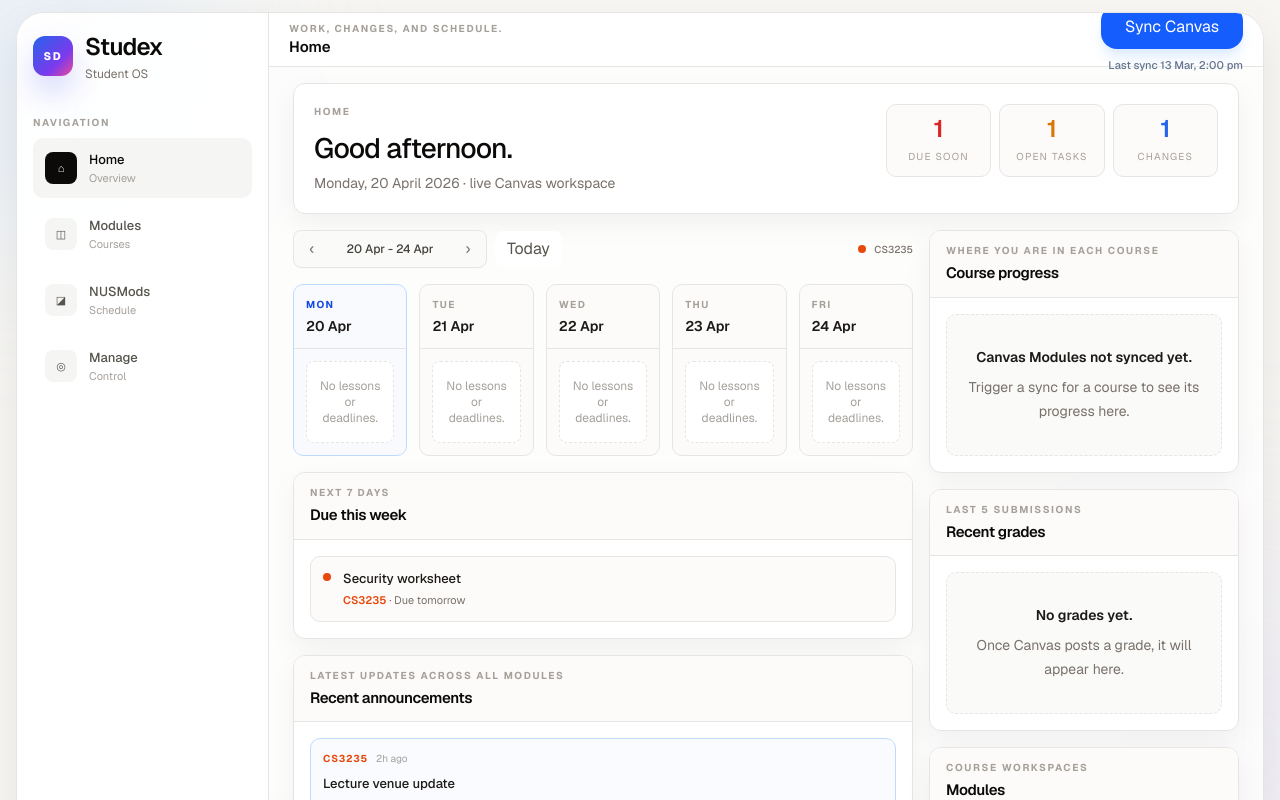
it: DashboardClient › switches root views from the redesigned navigation shell
What coordinates should you click on to do the following:
click the button "◫ Modules Courses"
I would click on:
 (142, 234)
Its box is [33, 204, 252, 264].
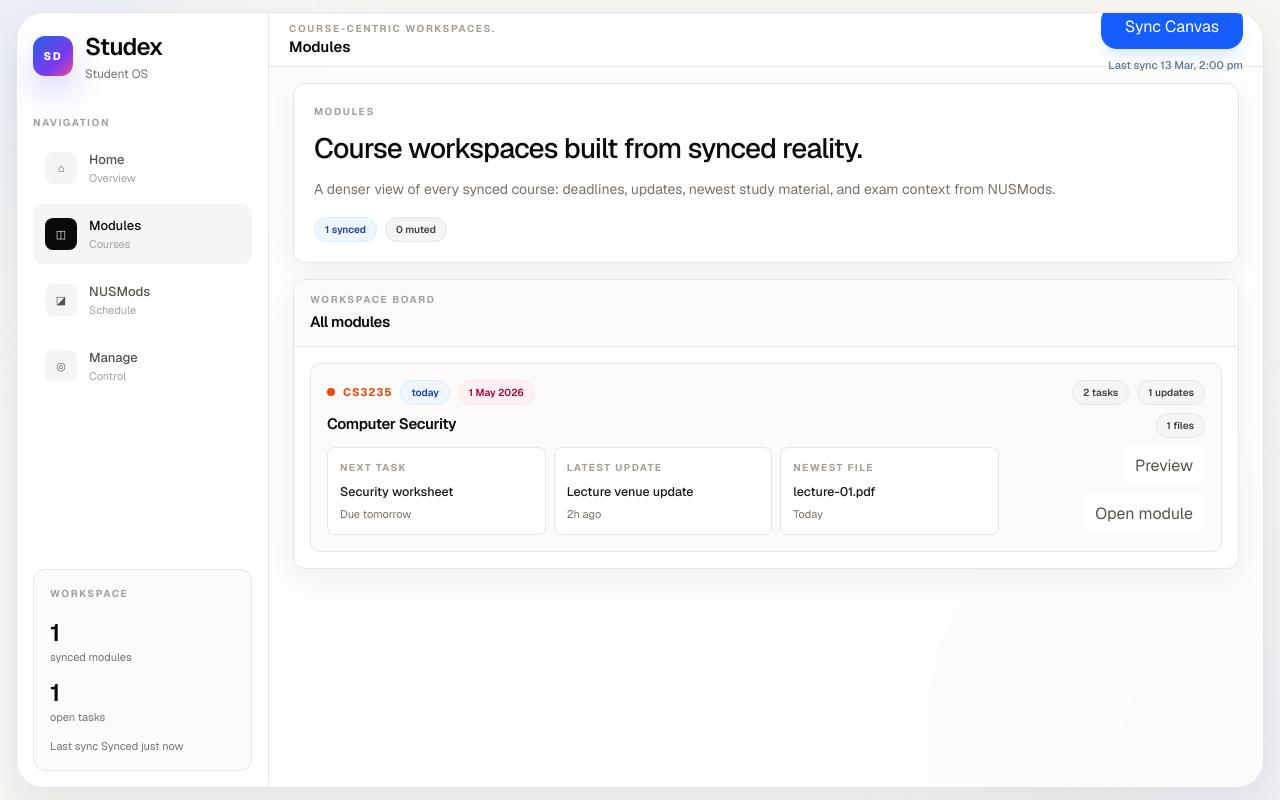
Expected: the text "Security worksheet" is shown, [340, 483, 454, 500]
Now the heading "Course workspaces built from synced reality." is shown, box [314, 130, 862, 166]
